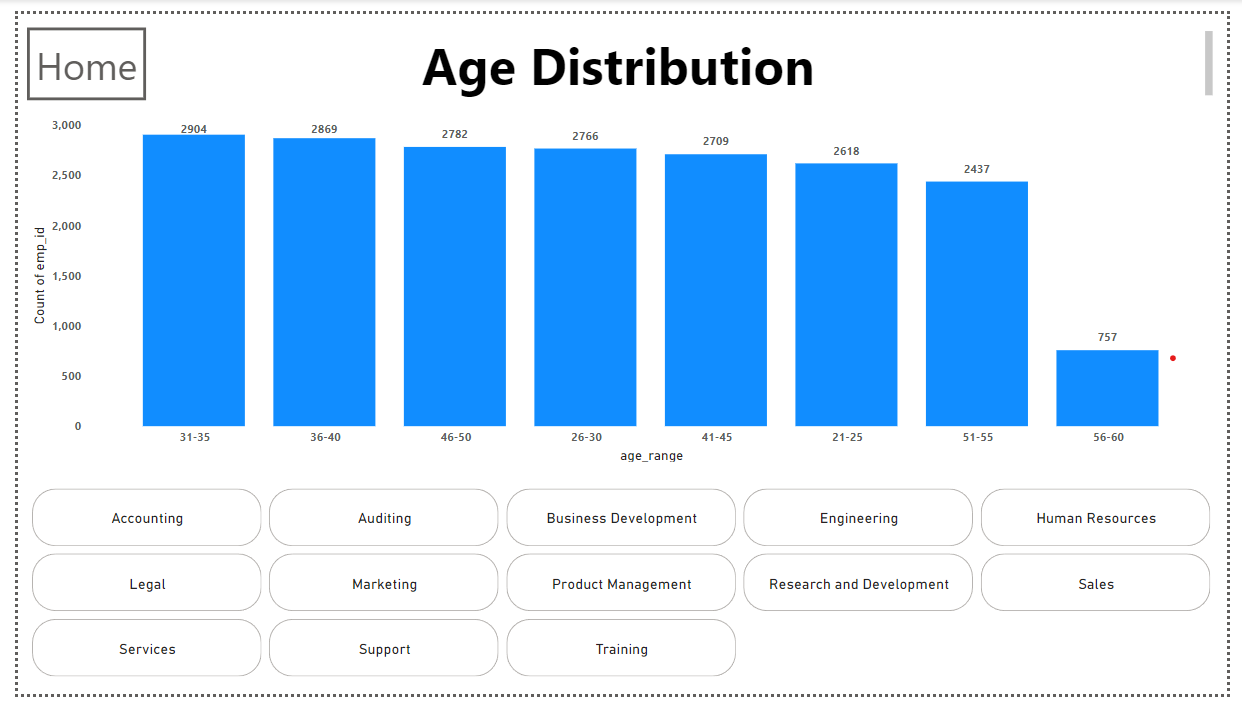

What the dashboard file says about the page in this screenshot:
{"tool":"powerbi","page":{"name":"Age Distribution","canvas":[1280,720],"ordinal":3},"visuals":[{"type":"advancedSlicerVisual","fields":{"Values":["hr.department"]},"box":[9.7,497.1,1259.8,210.5],"z":0},{"type":"textbox","box":[9.7,13,1259.8,79.3],"z":1000},{"type":"columnChart","fields":{"Category":["hr.age_range"],"Y":["CountNonNull(hr.emp_id)"]},"box":[9.7,103.6,1259.8,375.7],"z":1001},{"type":"actionButton","box":[9,14,126,77],"z":1002}]}

Visuals, with their boxes in screenshot pixels (x1, y1, x2, y2), scaled from the page's 1280x720 canvas onto the 1242x709 screenshot:
advancedSlicerVisual - hr.department: pyautogui.locateOnScreen(9, 490, 1232, 697)
textbox: pyautogui.locateOnScreen(9, 13, 1232, 91)
columnChart - hr.age_range x CountNonNull(hr.emp_id): pyautogui.locateOnScreen(9, 102, 1232, 472)
actionButton: pyautogui.locateOnScreen(9, 14, 131, 90)
